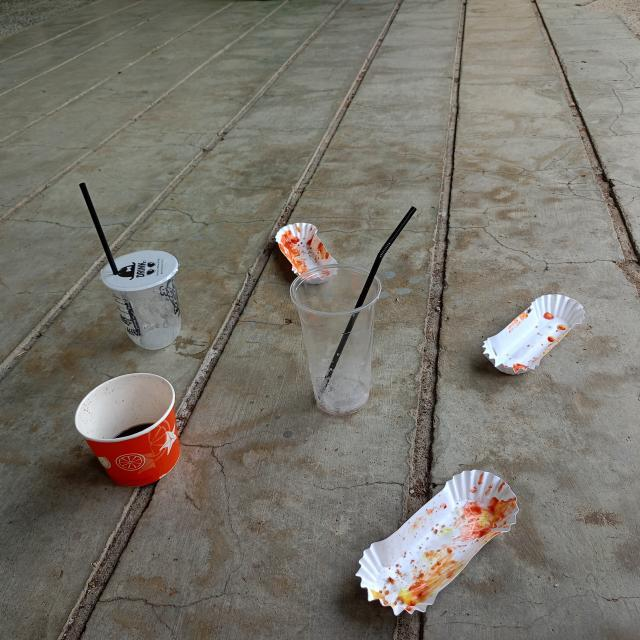recyclable waste: (349, 461, 529, 620), (282, 255, 386, 422), (66, 364, 188, 494), (90, 242, 191, 360), (473, 285, 592, 384), (270, 216, 346, 288)
